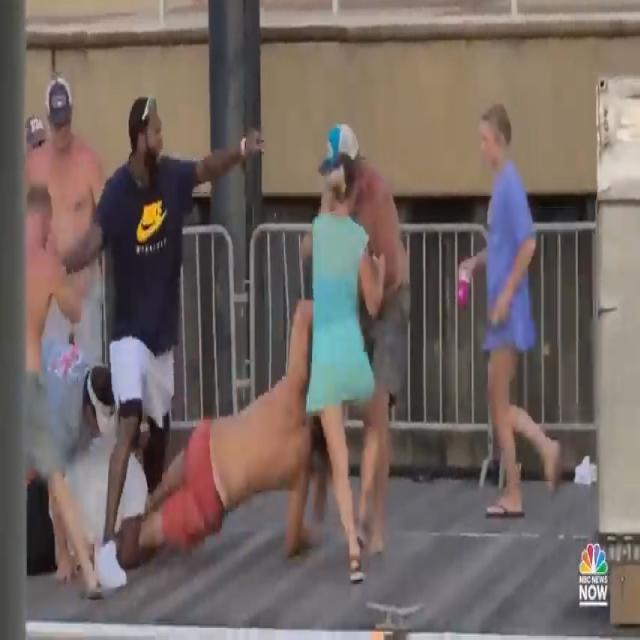fight: (92, 45, 420, 604)
